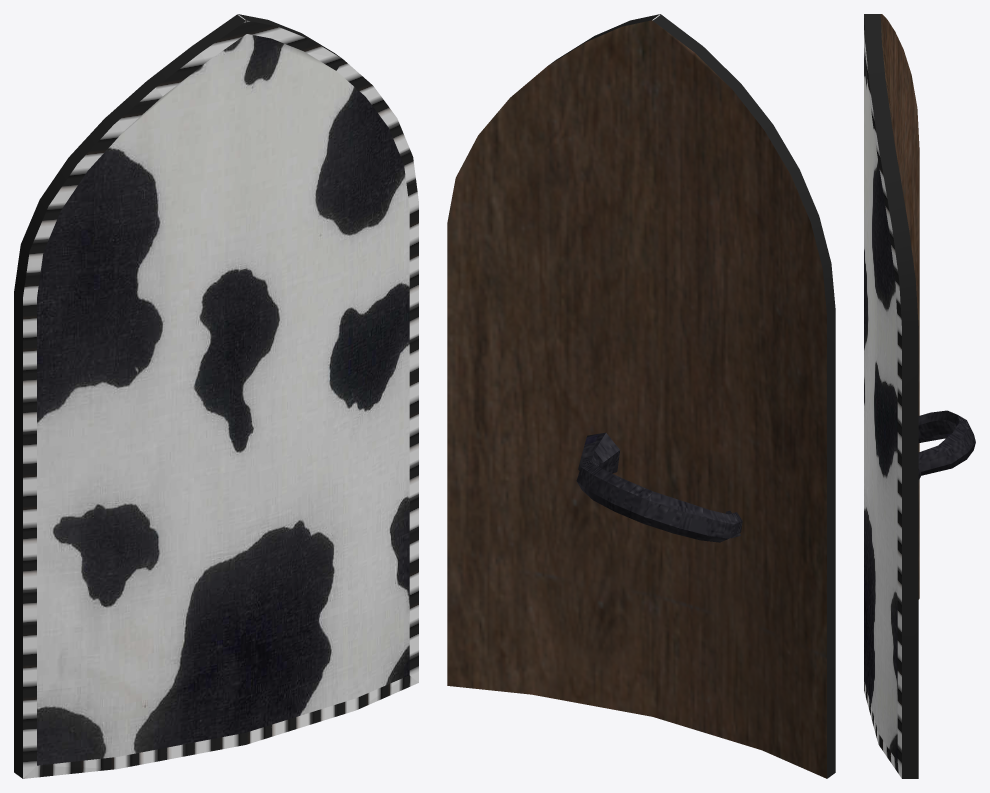
The model's file is Shield 2.FBX.
3 renders of one model, left to right at view 1: azimuth 30°, elevation 25°; view 2: azimuth 150°, elevation 25°; view 3: azimuth 270°, elevation 25°, orthographic. The views are drawn at different scales.
Parts seen in each view (by area): view 1: Shield 2; view 2: Shield 2; view 3: Shield 2.
Boxes of the visible parts, x1,y1,x2,y2 form: Shield 2: [14, 14, 418, 778]; Shield 2: [447, 14, 835, 778]; Shield 2: [864, 14, 975, 778].
Size of the model in its own units: 65.12 by 114 by 17.08.
Materials: 1 (1 with a texture image).
